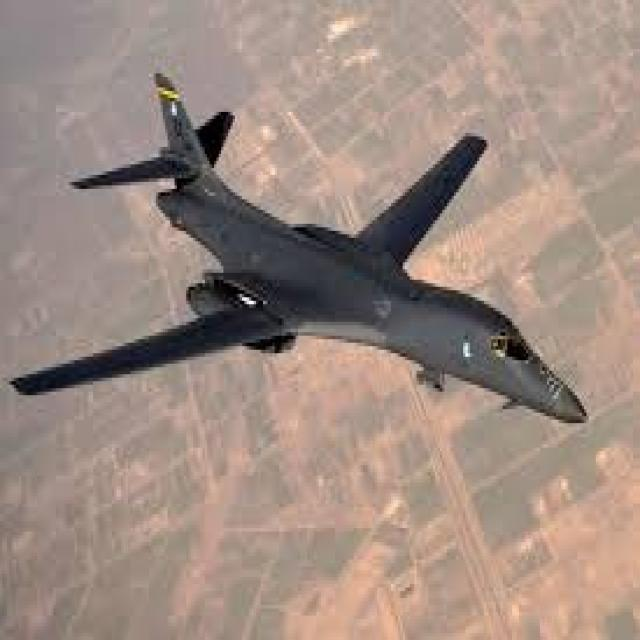B1: (10, 50, 603, 472)
